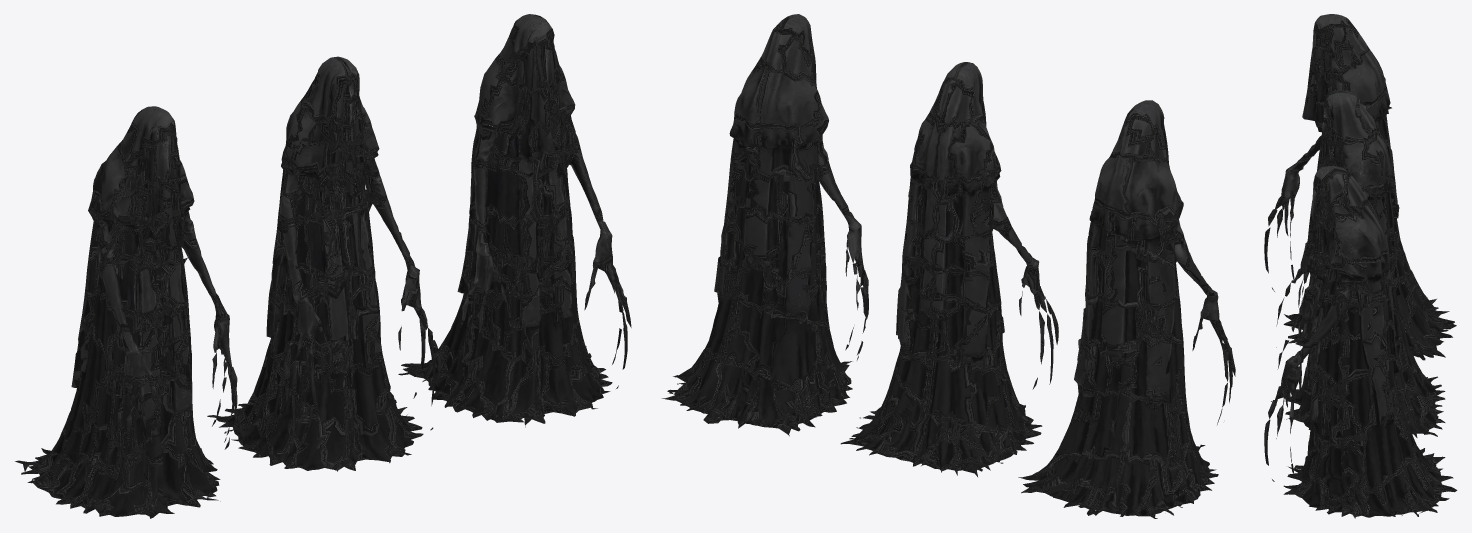
The model's file is specters.glb.
3 renders of one model, left to right at view 1: azimuth 30°, elevation 25°; view 2: azimuth 150°, elevation 25°; view 3: azimuth 270°, elevation 25°, orthographic. The views are drawn at different scales.
Bounding box in the file's own units: 1.9 × 1.25 × 0.6872.
1 material, 1 textured.
